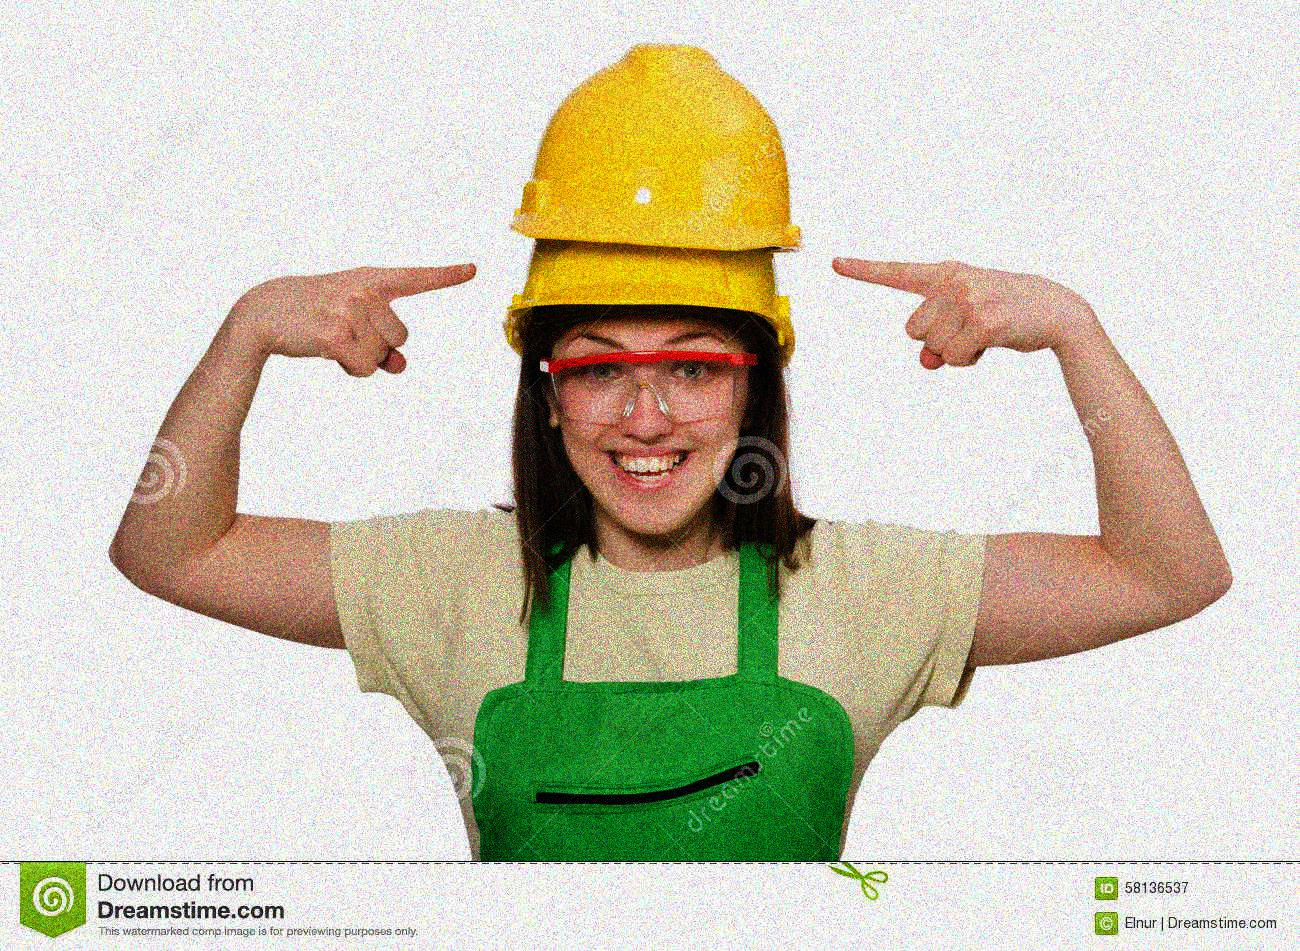helmet: (511, 236, 801, 538)
